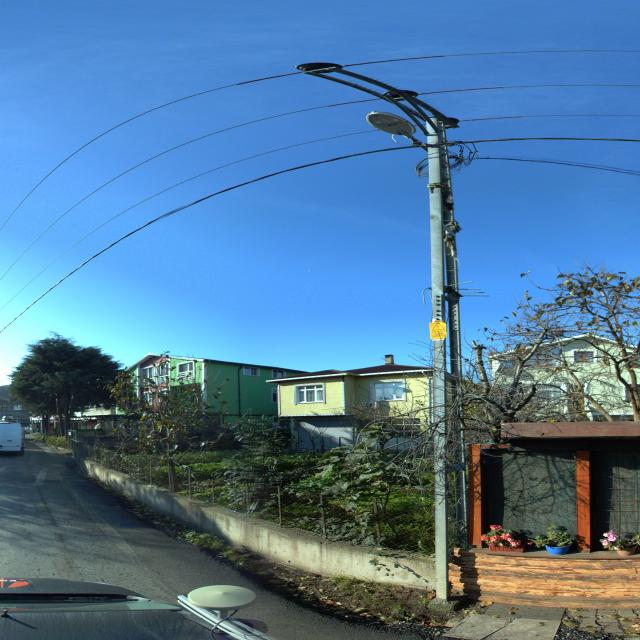Utility Pole Information Plate: (429, 320, 447, 339)
